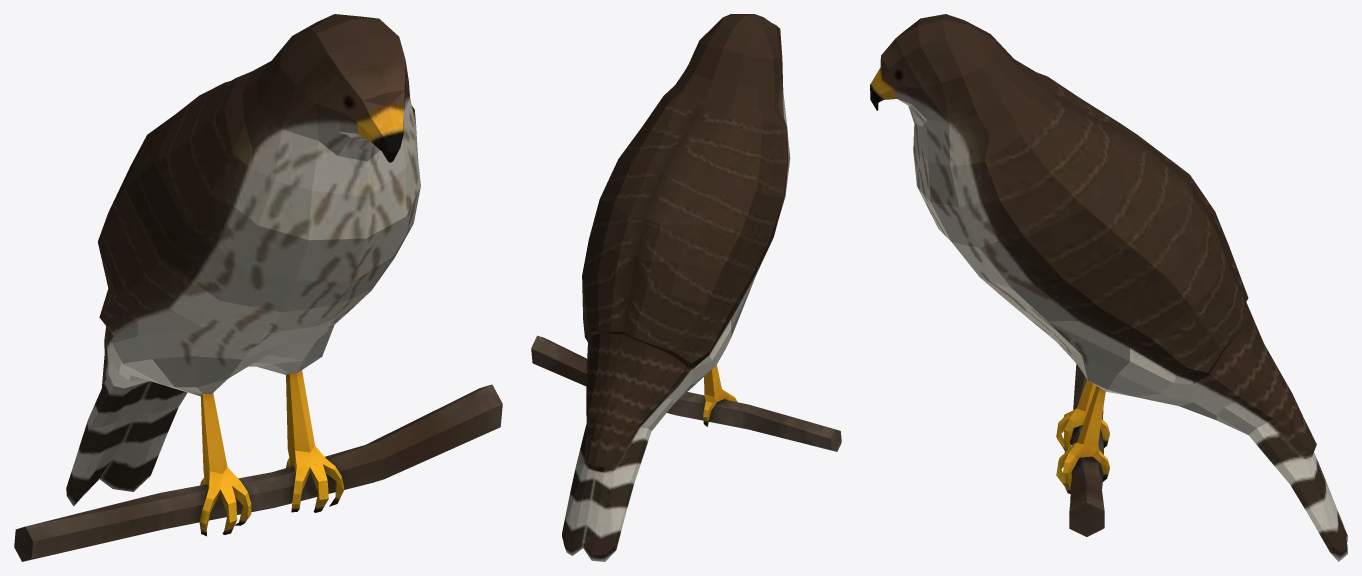
File: animals-sharp-shinned-hawk-181.glb
3 views of the same model, side by side, from view 1: azimuth 30°, elevation 25°; view 2: azimuth 150°, elevation 25°; view 3: azimuth 270°, elevation 25° (orthographic). The views are drawn at different scales.
Visible parts, largest first — view 1: SharpShinnedHawk_Mesh; view 2: SharpShinnedHawk_Mesh; view 3: SharpShinnedHawk_Mesh.
Boxes of the visible parts, bbox=[...] form: SharpShinnedHawk_Mesh: bbox=[14, 14, 502, 561]; SharpShinnedHawk_Mesh: bbox=[531, 14, 841, 561]; SharpShinnedHawk_Mesh: bbox=[870, 14, 1347, 561].
Size of the model in its own units: 2.8 by 3.77 by 3.08.
1 material, 1 textured.
